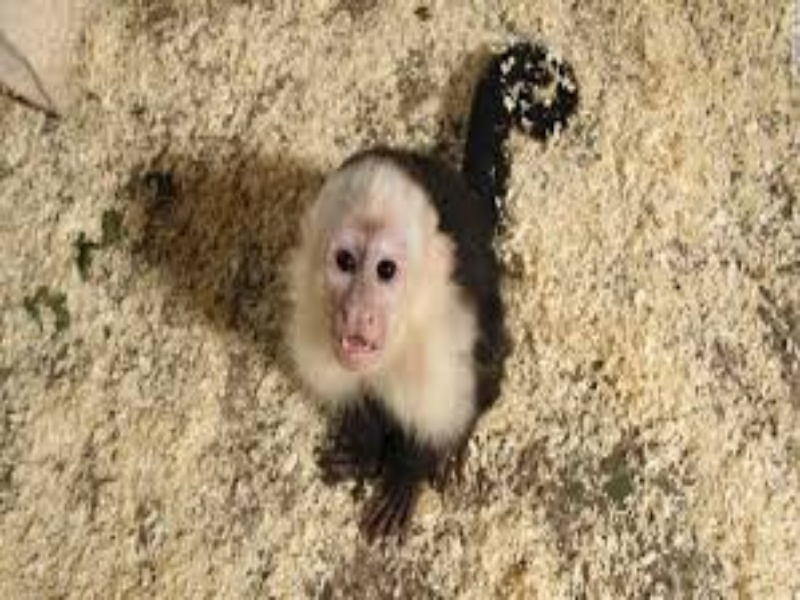monkey: (265, 46, 588, 547)
